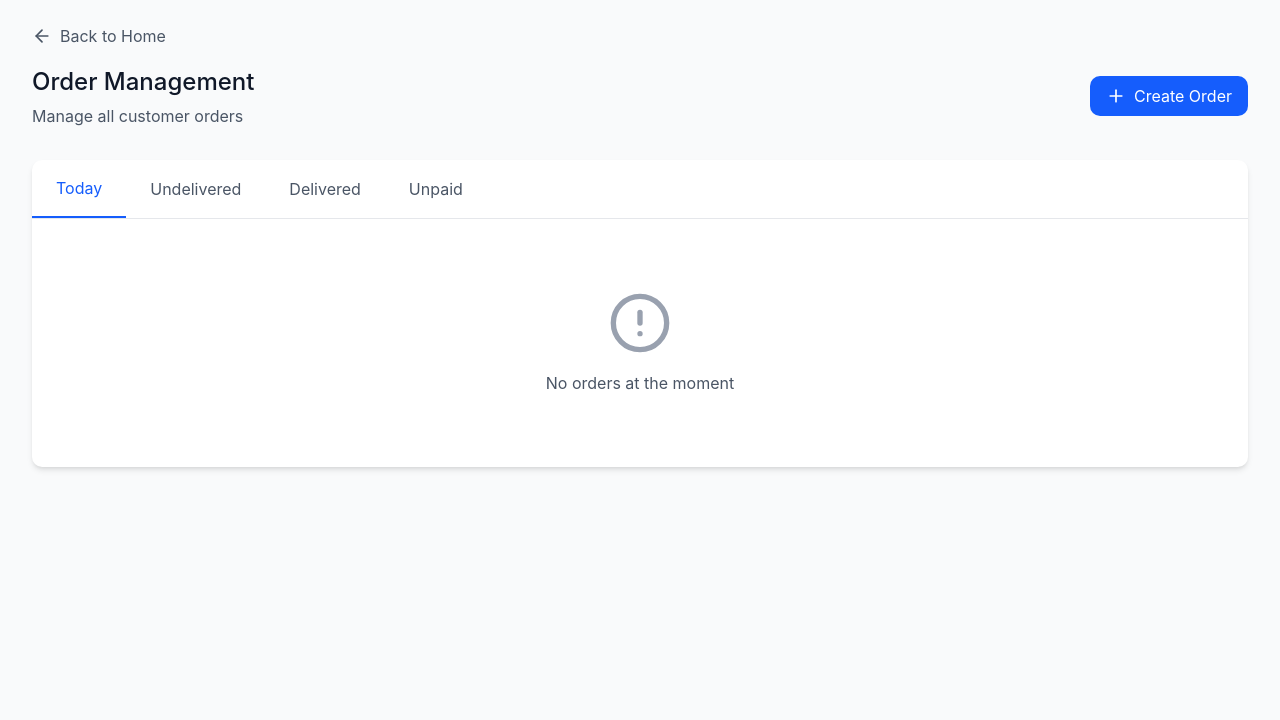
OrderManagementScreen › Delivery Today toggle on the Undelivered tab › asks for confirmation instead of changing the date straight away
This screenshot has width=1280, height=720.
Click the button "Undelivered".
click(196, 189)  # box [126,160,265,218]
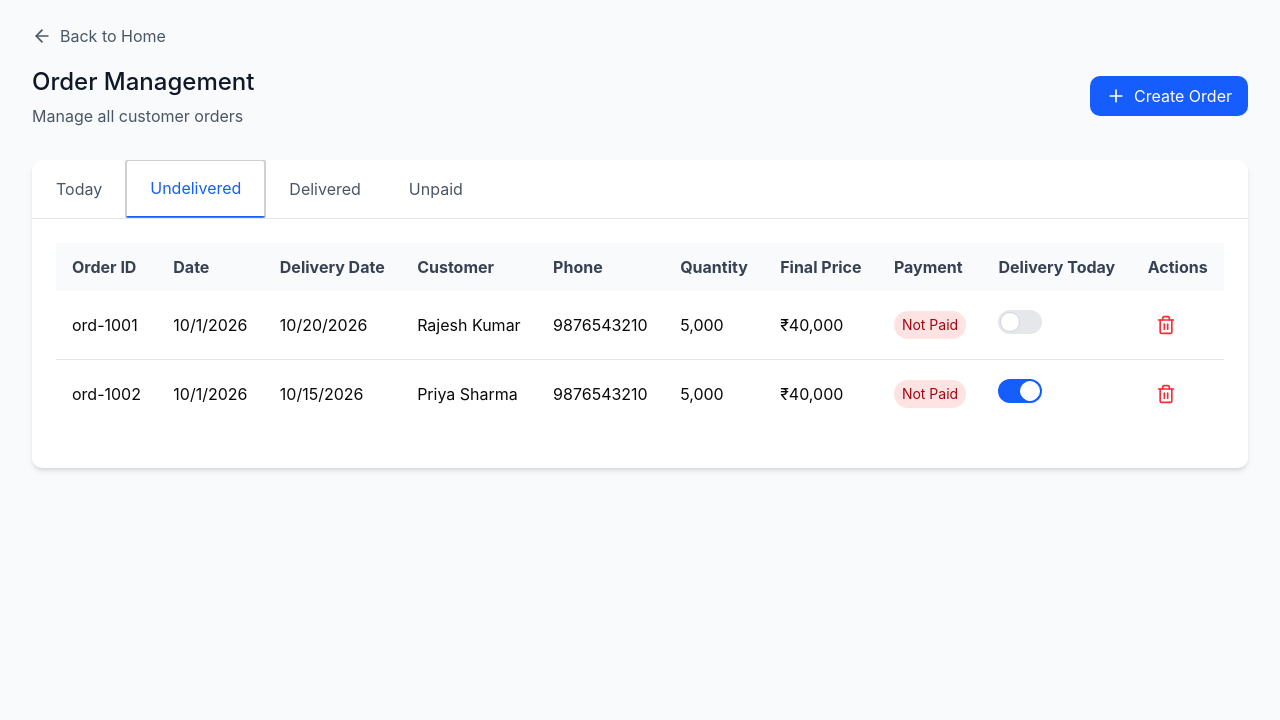
Now the text "Rajesh Kumar" is shown, box [401,291,537,360]
Click the checkbox named "Delivery today for order ord-1001".
click(1020, 322)  # box [998,310,1042,334]
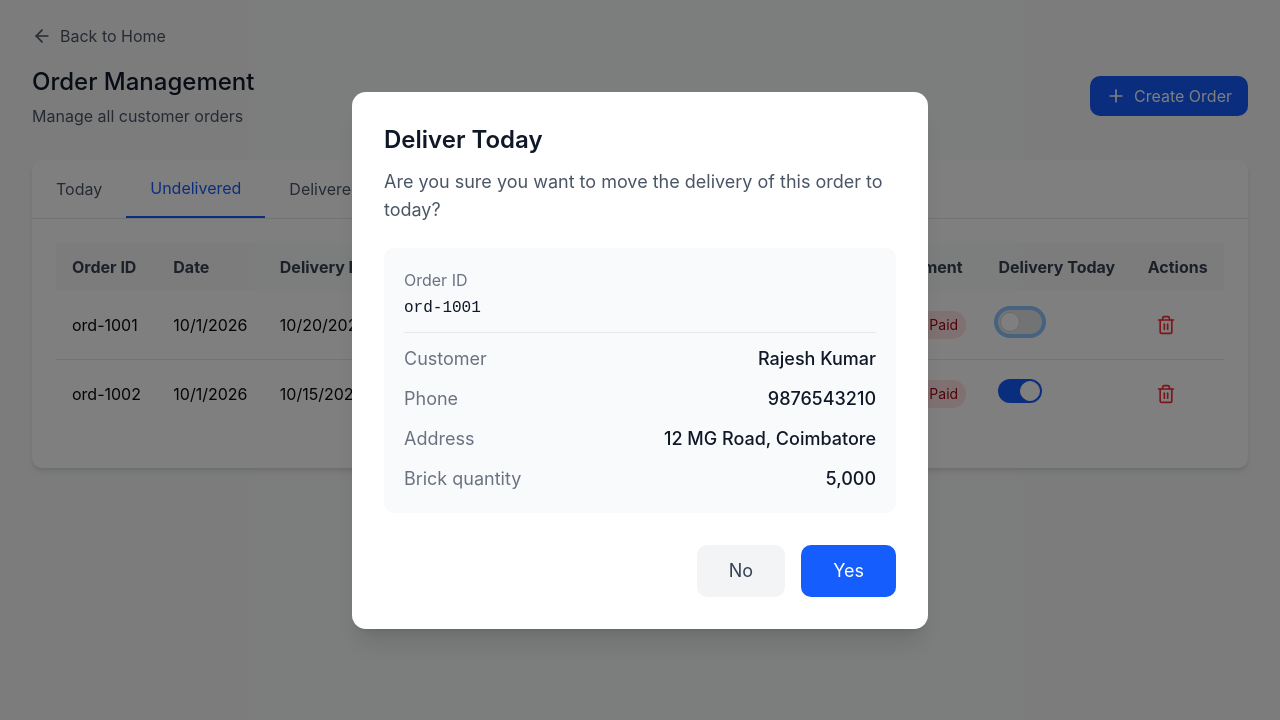
Now the text "Are you sure you want to move the delivery of this order to today?" is shown, box [384,168,896,224]
Now the text "ord-1001" is shown, box [404,298,481,316]
Now the button "Yes" is enabled, box [801,544,896,596]
